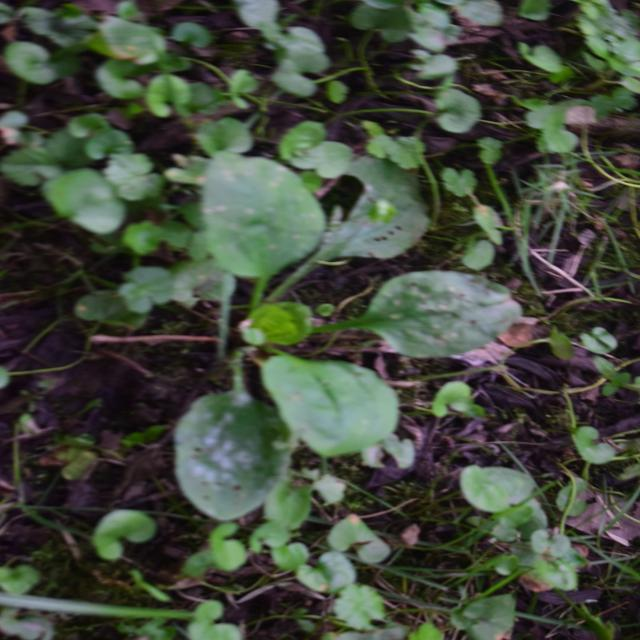plantain: (135, 120, 511, 500)
